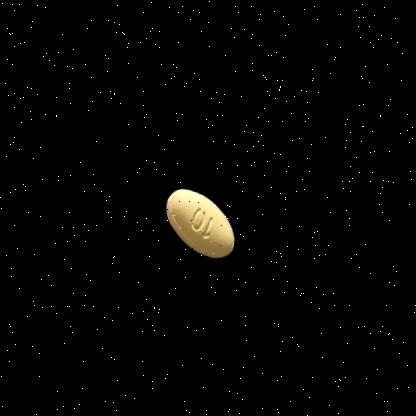tovast10: (160, 170, 249, 273)
